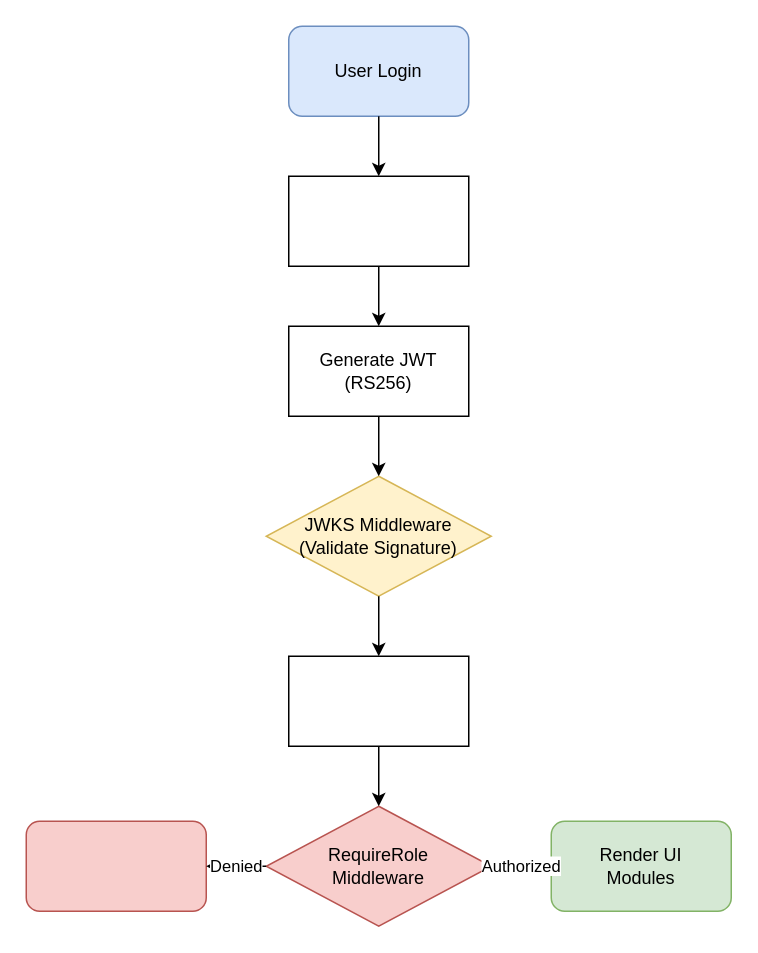
The diagram is 758 pixels wide and 953 high, and some of its shapes have lost their labels. The box of each missing label's shape, as (x1, y1, x2, y2) in pixels:
403 Forbidden: (25, 820, 206, 911)
Backend: Auth Svc (Verify Creds): (287, 175, 469, 266)
Extract Role from Context: (287, 655, 469, 746)
